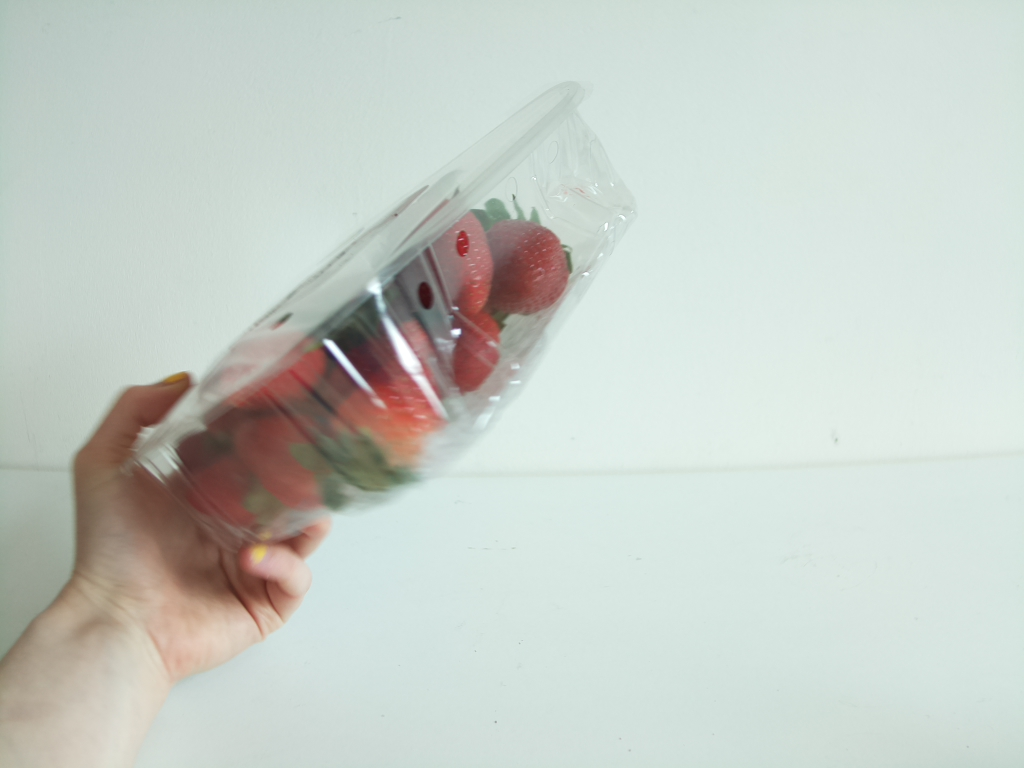soft-fruit: (101, 98, 638, 552)
